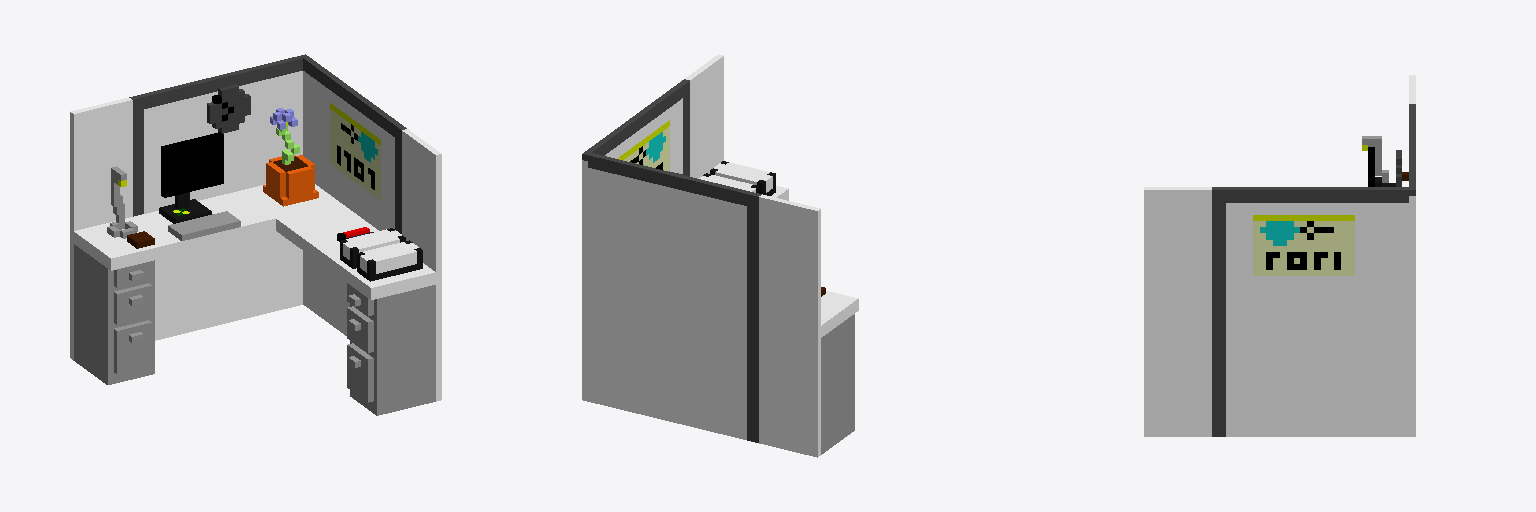
3 renders of one model, left to right at view 1: azimuth 30°, elevation 25°; view 2: azimuth 150°, elevation 25°; view 3: azimuth 270°, elevation 25°, orthographic.
Parts seen in each view (by area): view 1: object 1; view 2: object 1; view 3: object 1.
Part boxes in pixels (x1,y1,x2,y2): object 1: (70, 54, 441, 415); object 1: (582, 54, 858, 457); object 1: (1144, 75, 1415, 436).
Size of the model in its own units: 4 by 4 by 4.
1 materials, 1 textured.